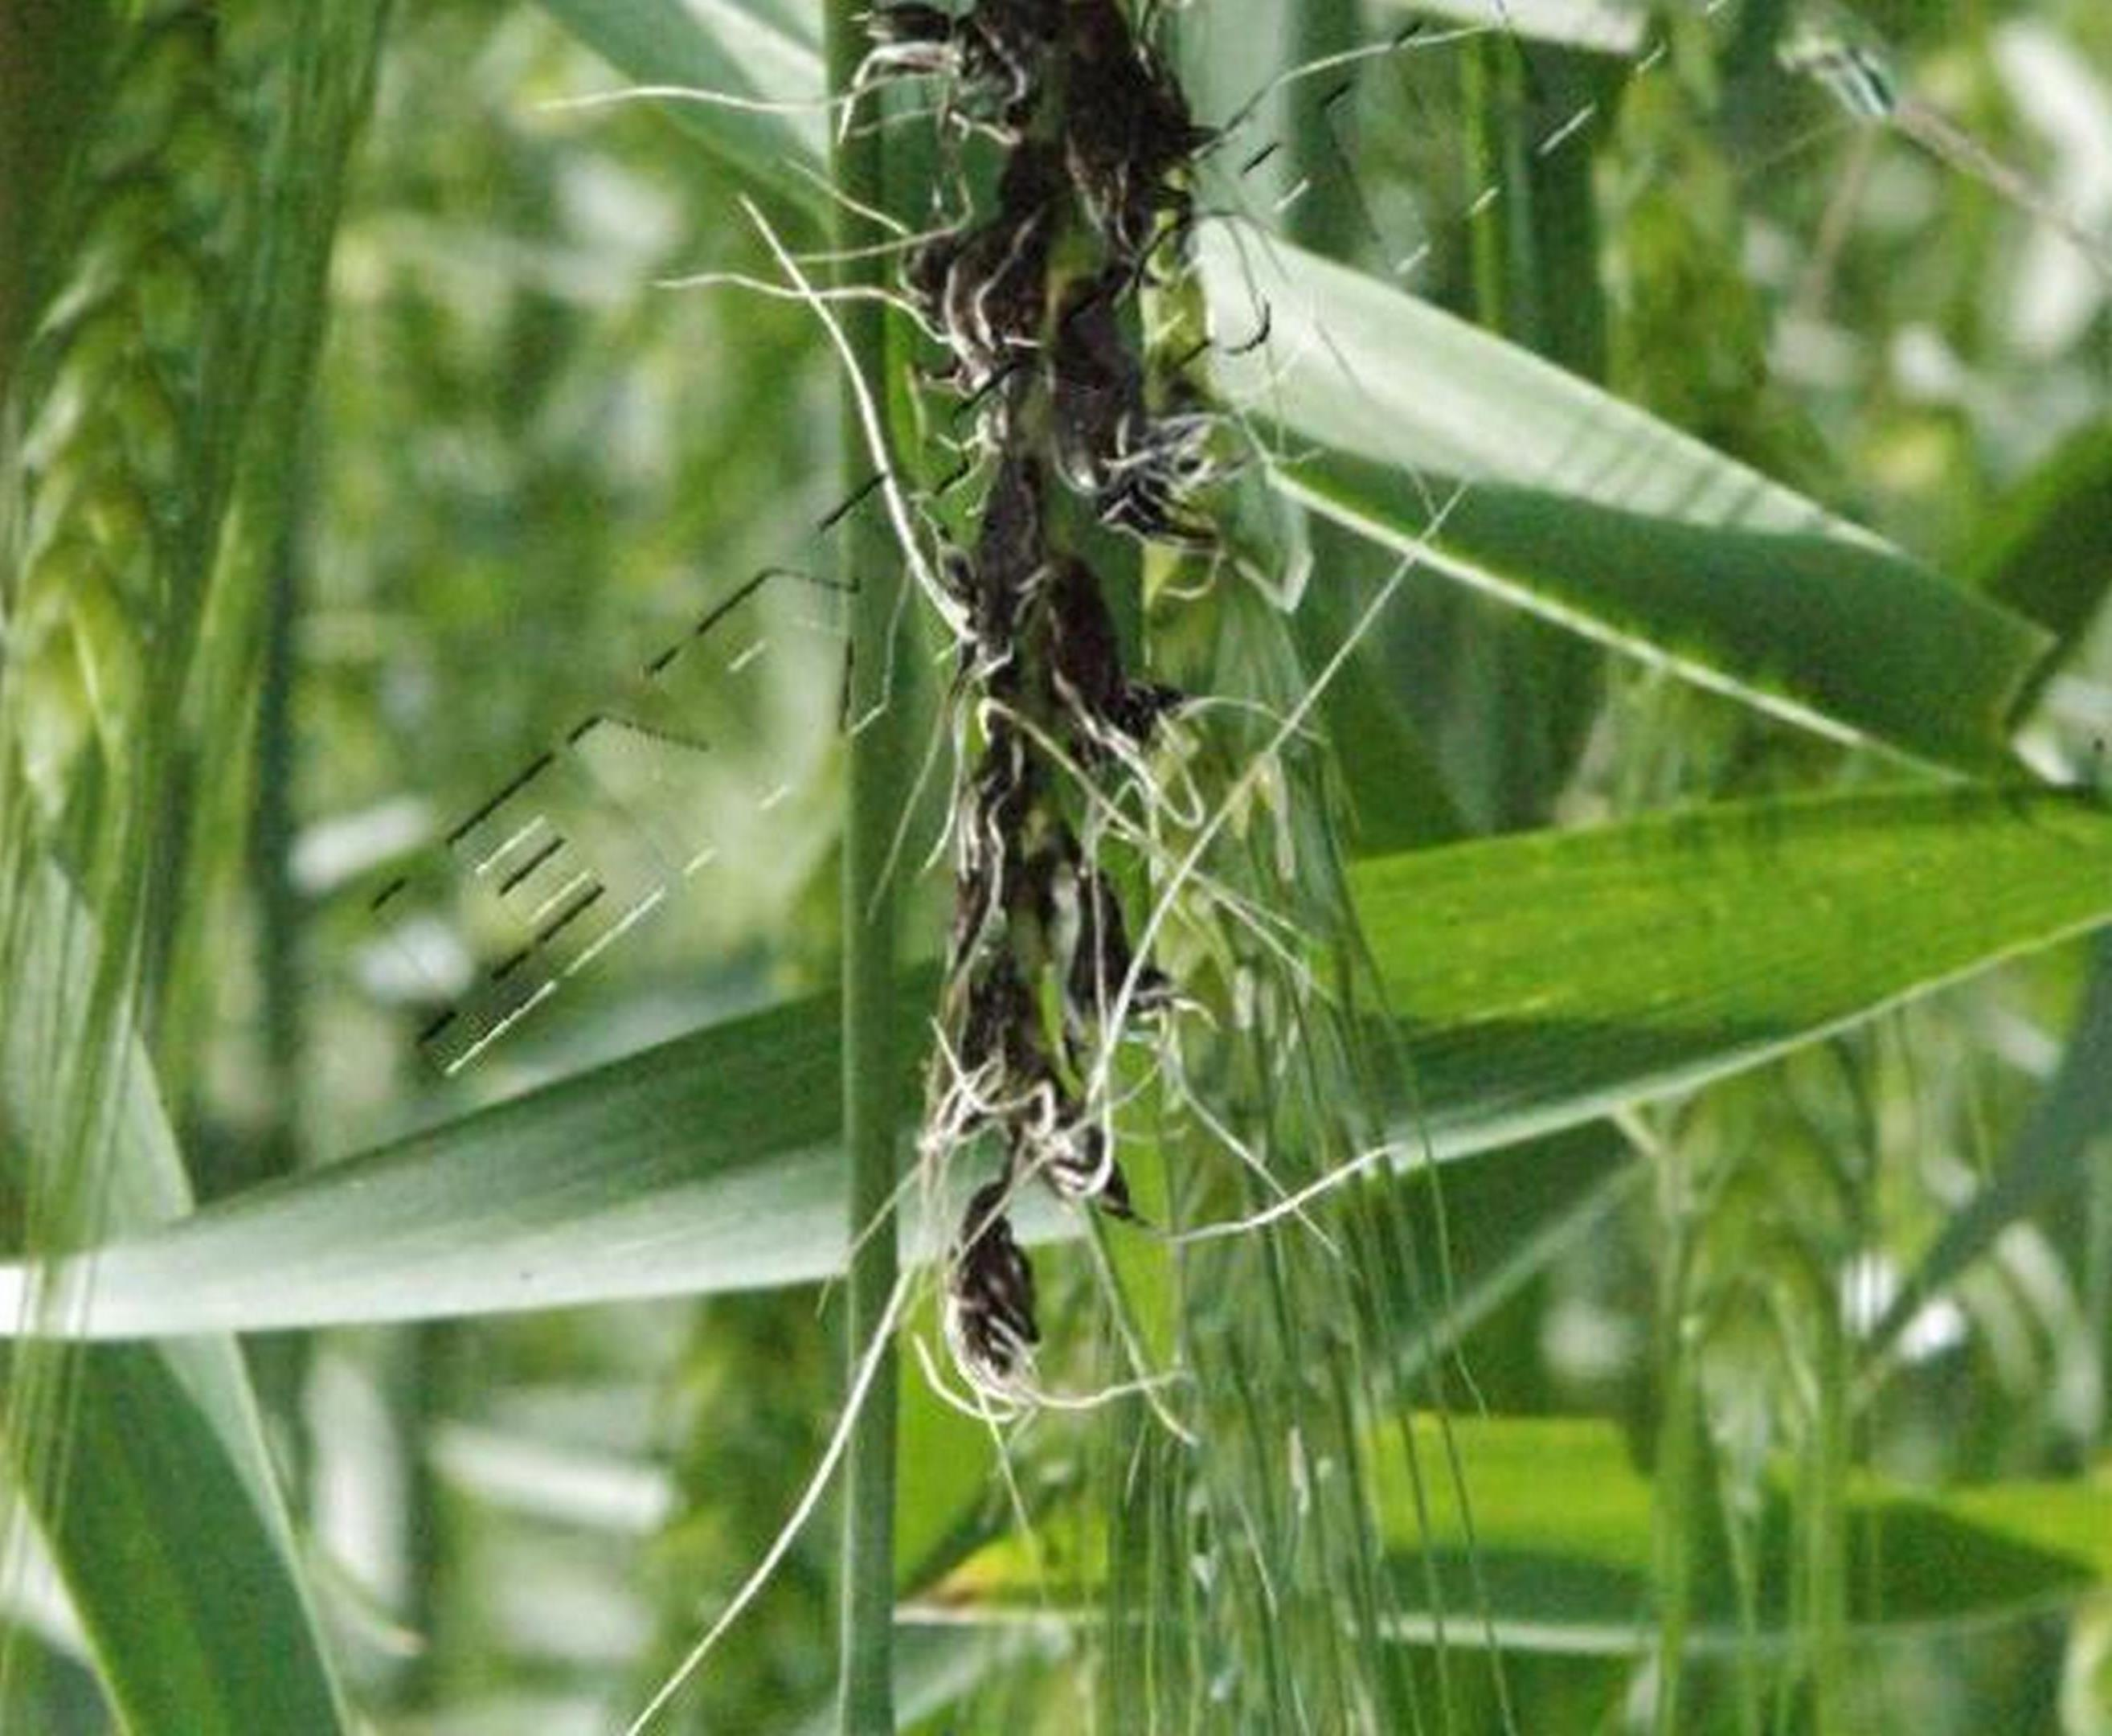Wheat Loose Smut: (826, 30, 1263, 1357)
